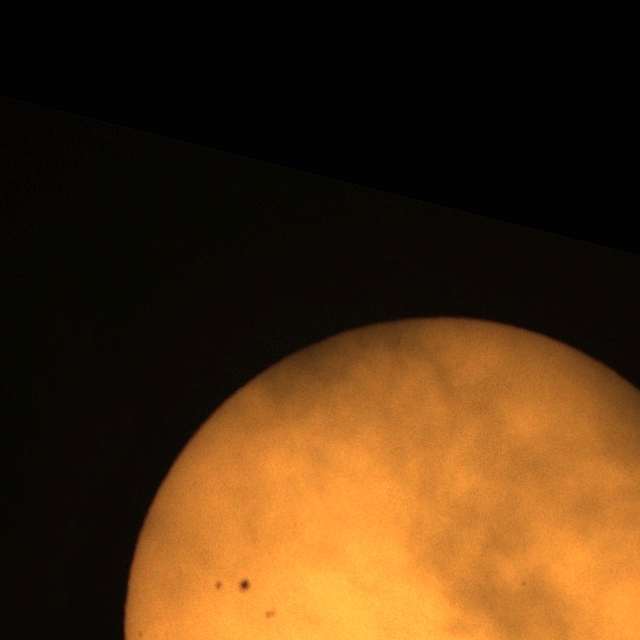sunspot: (237, 577, 252, 594), (264, 609, 276, 619), (215, 580, 223, 592)
